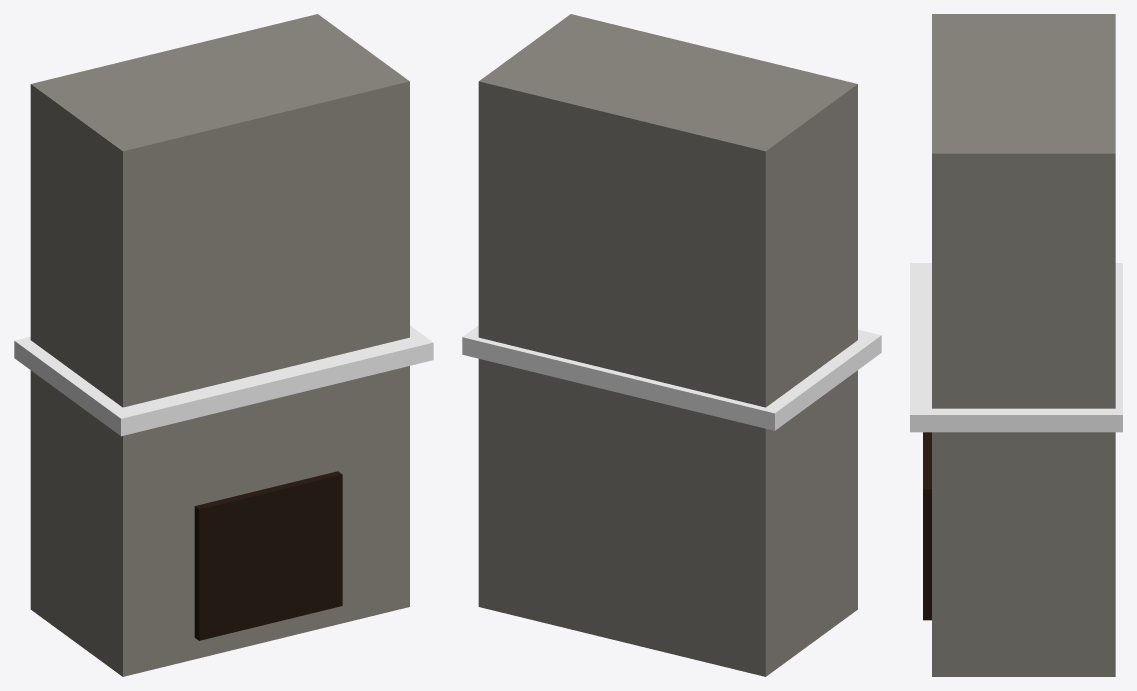
The model's file is chimenea.glb.
3 views of the same model, side by side, from view 1: azimuth 30°, elevation 25°; view 2: azimuth 150°, elevation 25°; view 3: azimuth 270°, elevation 25° (orthographic).
Visible parts, largest first — view 1: chimenea; view 2: chimenea; view 3: chimenea.
Boxes of the visible parts, x1=… form: chimenea: x1=14, y1=14, x2=433, y2=676; chimenea: x1=462, y1=14, x2=881, y2=676; chimenea: x1=910, y1=14, x2=1122, y2=676.
Bounding box in the file's own units: 1.49 × 2.4 × 0.8839.
